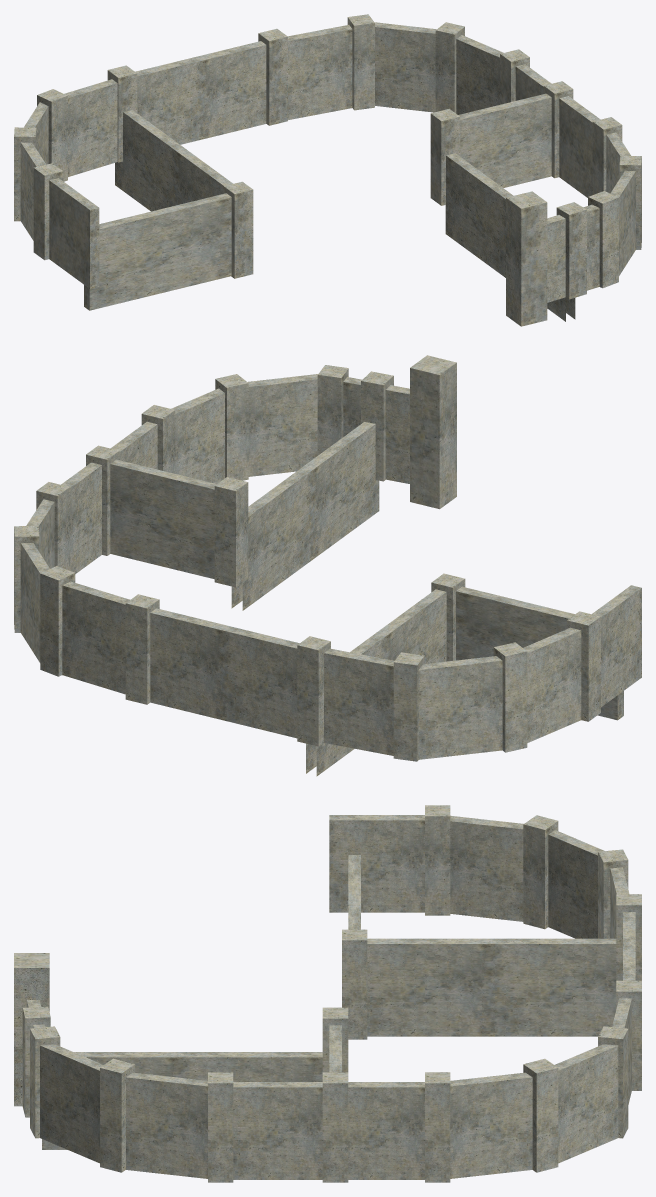
The model's file is poi_all_farm_32x32_s01_l1.fbx.
3 renders of one model, top to bottom at view 1: azimuth 30°, elevation 25°; view 2: azimuth 150°, elevation 25°; view 3: azimuth 270°, elevation 25°, orthographic. The views are drawn at different scales.
Parts seen in each view (by area): view 1: mesh_node; view 2: mesh_node; view 3: mesh_node.
Part boxes in pixels (box(x1,y1,x2,y2)): mesh_node: box(14, 14, 641, 326); mesh_node: box(14, 355, 641, 776); mesh_node: box(14, 805, 641, 1182).
Bounding box in the file's own units: 25.75 × 6.92 × 24.59.
